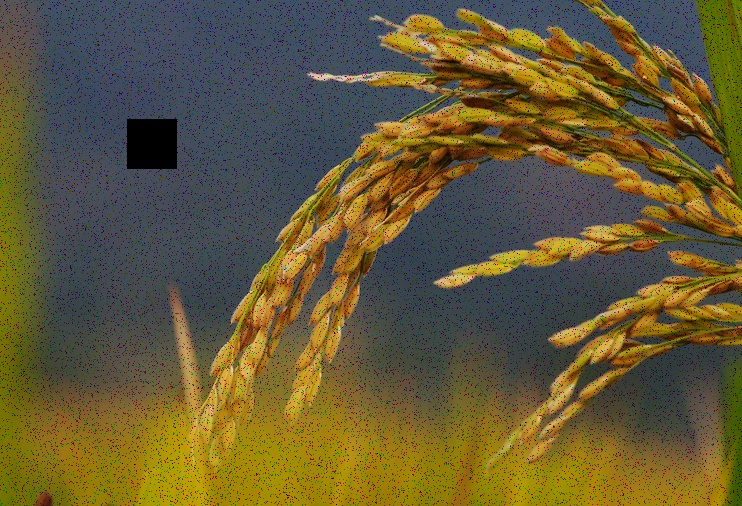rice: (188, 12, 740, 468)
